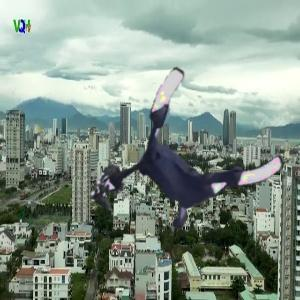drone: (116, 86, 277, 247)
